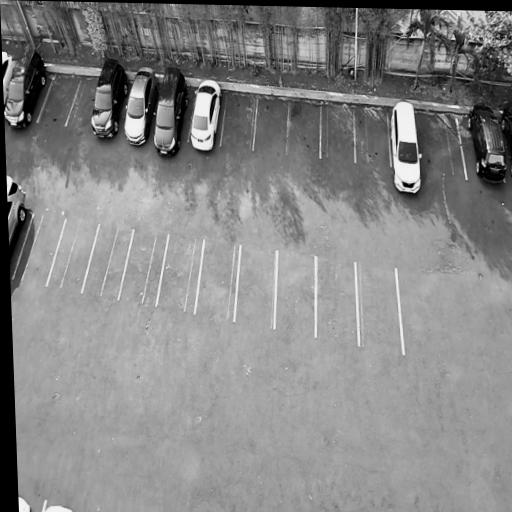Car: (146, 61, 193, 160), (4, 40, 52, 132), (86, 50, 134, 142), (462, 97, 510, 185), (119, 59, 163, 152), (388, 95, 426, 200), (184, 71, 226, 162), (6, 165, 33, 281), (496, 97, 512, 178), (2, 45, 18, 114)
Space Available: (355, 261, 404, 354), (117, 226, 169, 305), (156, 233, 205, 313), (82, 224, 134, 299), (46, 219, 100, 291), (316, 254, 359, 343), (14, 216, 66, 286), (195, 240, 241, 319), (275, 250, 316, 336), (235, 243, 277, 326), (37, 72, 82, 126), (354, 105, 391, 167), (220, 91, 258, 151), (253, 95, 289, 154), (321, 102, 356, 162), (286, 102, 322, 158), (66, 75, 99, 129)
